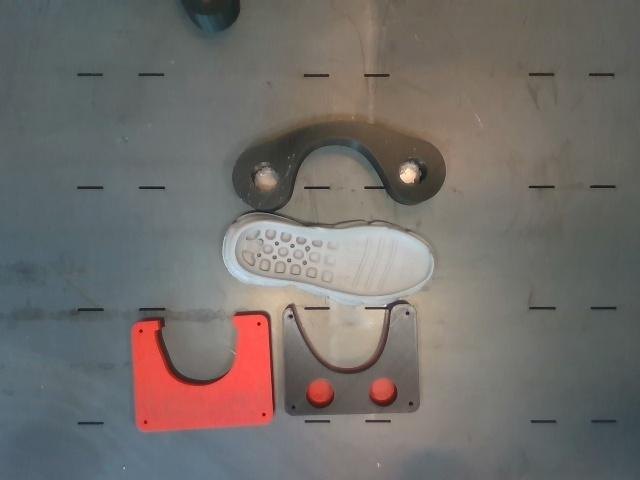shoes: (234, 222, 434, 296)
